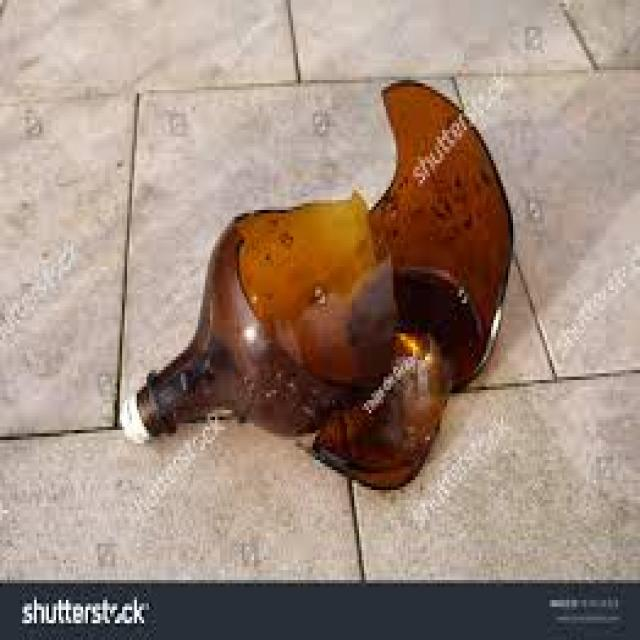glass: (132, 190, 398, 430), (364, 77, 511, 383), (288, 323, 447, 487)
plastic: (115, 393, 149, 440)
